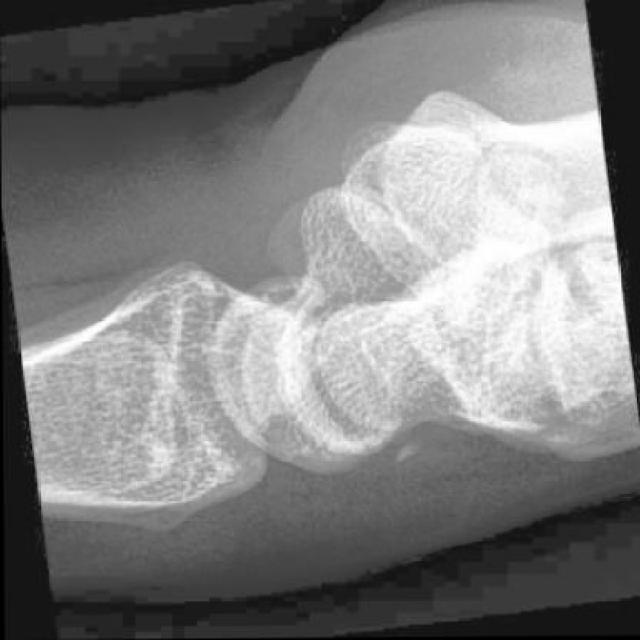Fracture: (365, 412, 427, 474)
